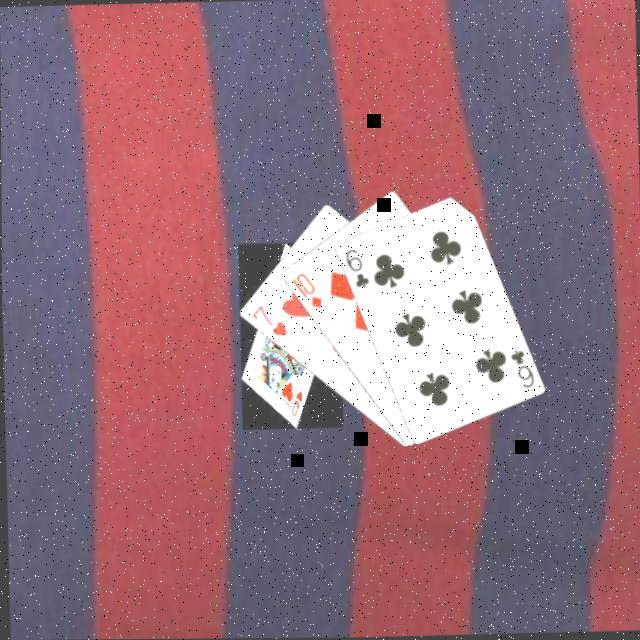10D: (286, 270, 323, 314)
6C: (339, 246, 370, 294), (504, 347, 535, 392)
7H: (246, 302, 288, 341)
